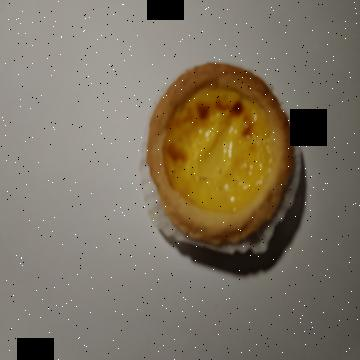EggTart: (146, 60, 292, 248)
